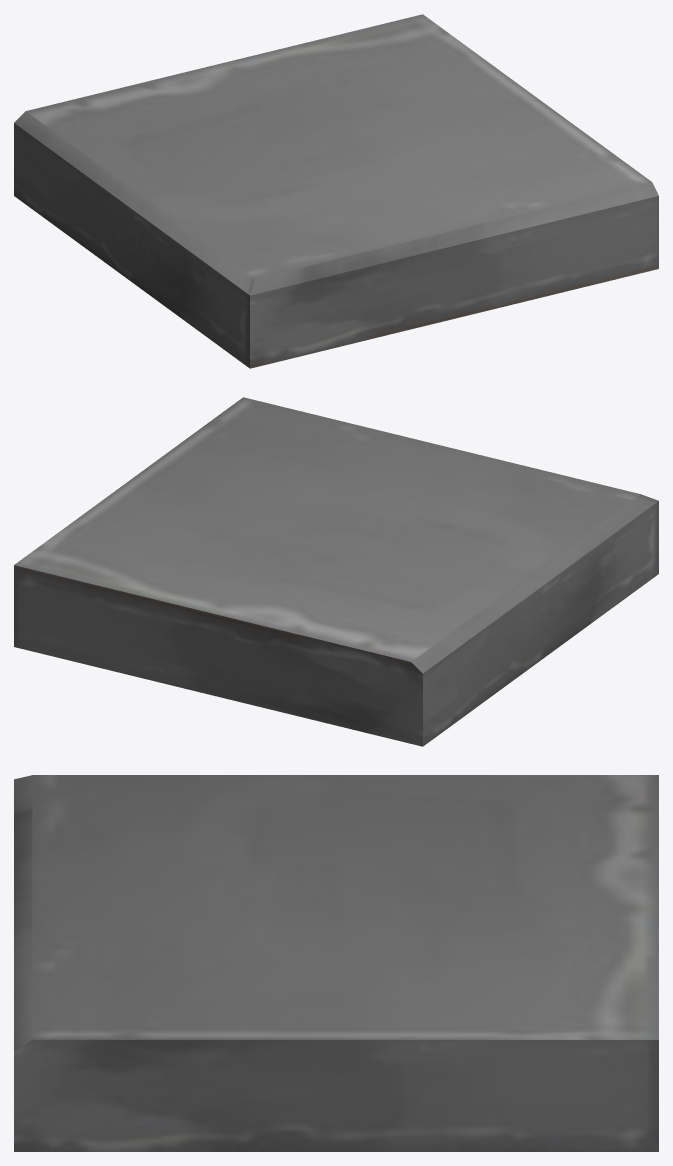
The model's file is kerb_corner.glb.
3 views of the same model, one above another, from view 1: azimuth 30°, elevation 25°; view 2: azimuth 150°, elevation 25°; view 3: azimuth 270°, elevation 25° (orthographic). The views are drawn at different scales.
Visible parts, largest first — view 1: Prop_ExteriorBorder_Corner; view 2: Prop_ExteriorBorder_Corner; view 3: Prop_ExteriorBorder_Corner.
Boxes of the visible parts, <box> form: Prop_ExteriorBorder_Corner: <box>14,14,658,368</box>; Prop_ExteriorBorder_Corner: <box>14,397,658,746</box>; Prop_ExteriorBorder_Corner: <box>14,775,658,1151</box>.
Size of the model in its own units: 0.7 by 0.134 by 0.7.
1 material, 1 textured.
